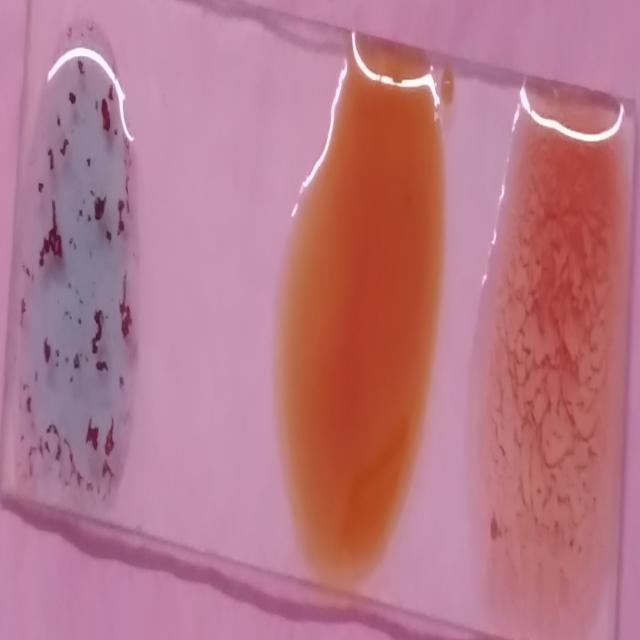A: (21, 41, 134, 498)
D: (494, 112, 612, 601)
